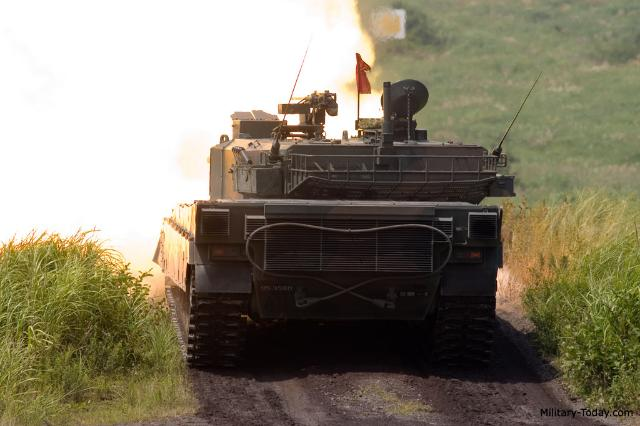tank: (158, 88, 504, 348)
